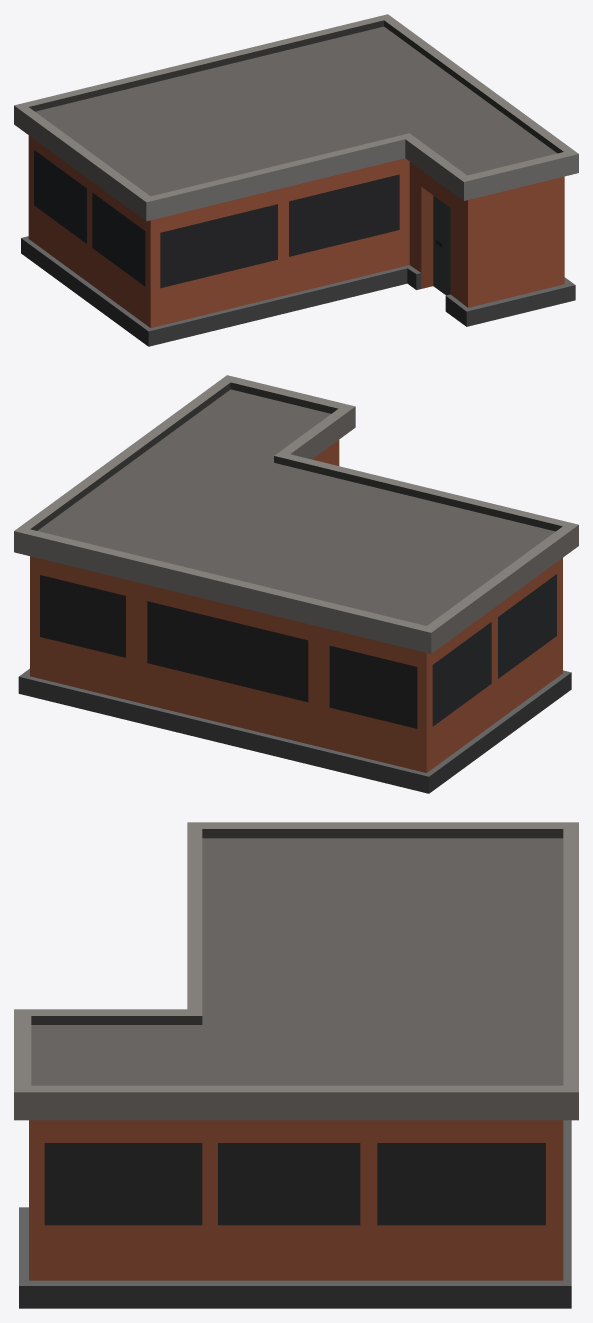
File: Small Building 2.fbx
The picture shows the model from 3 angles, top to bottom: view 1: azimuth 30°, elevation 25°; view 2: azimuth 150°, elevation 25°; view 3: azimuth 270°, elevation 25°; orthographic projection. The views are drawn at different scales.
Visible parts, largest first — view 1: Airport_Building_Small02; view 2: Airport_Building_Small02; view 3: Airport_Building_Small02.
Part boxes in pixels (x1,y1,x2,y2): Airport_Building_Small02: (14, 14, 578, 346); Airport_Building_Small02: (14, 375, 578, 793); Airport_Building_Small02: (14, 822, 578, 1308).
Bounding box in the file's own units: 1433 × 539 × 1268.
